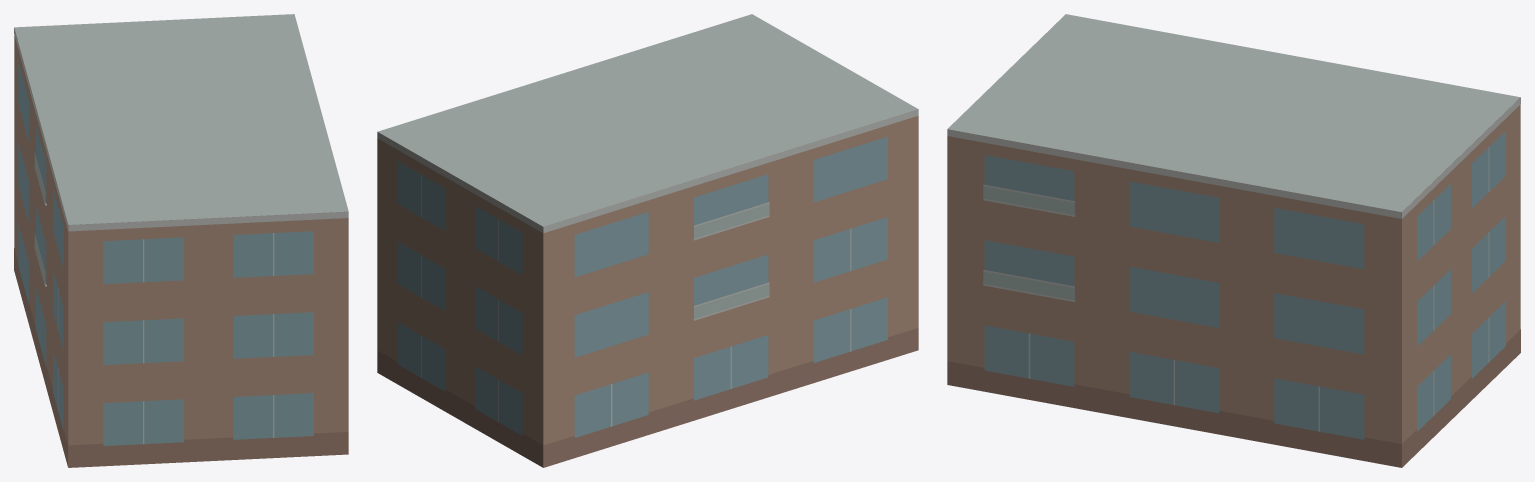
Rendered from survey-upis-32708284.glb.
The picture shows the model from 3 angles, left to right: view 1: azimuth 30°, elevation 25°; view 2: azimuth 150°, elevation 25°; view 3: azimuth 270°, elevation 25°; orthographic projection. The views are drawn at different scales.
Parts seen in each view (by area): view 1: survey-upis-32708284.tmp; view 2: survey-upis-32708284.tmp; view 3: survey-upis-32708284.tmp.
Boxes of the visible parts, x1,y1,x2,y2 form: survey-upis-32708284.tmp: [14, 14, 348, 467]; survey-upis-32708284.tmp: [377, 14, 918, 467]; survey-upis-32708284.tmp: [947, 14, 1520, 467].
Size of the model in its own units: 15.22 by 9.15 by 18.61.
